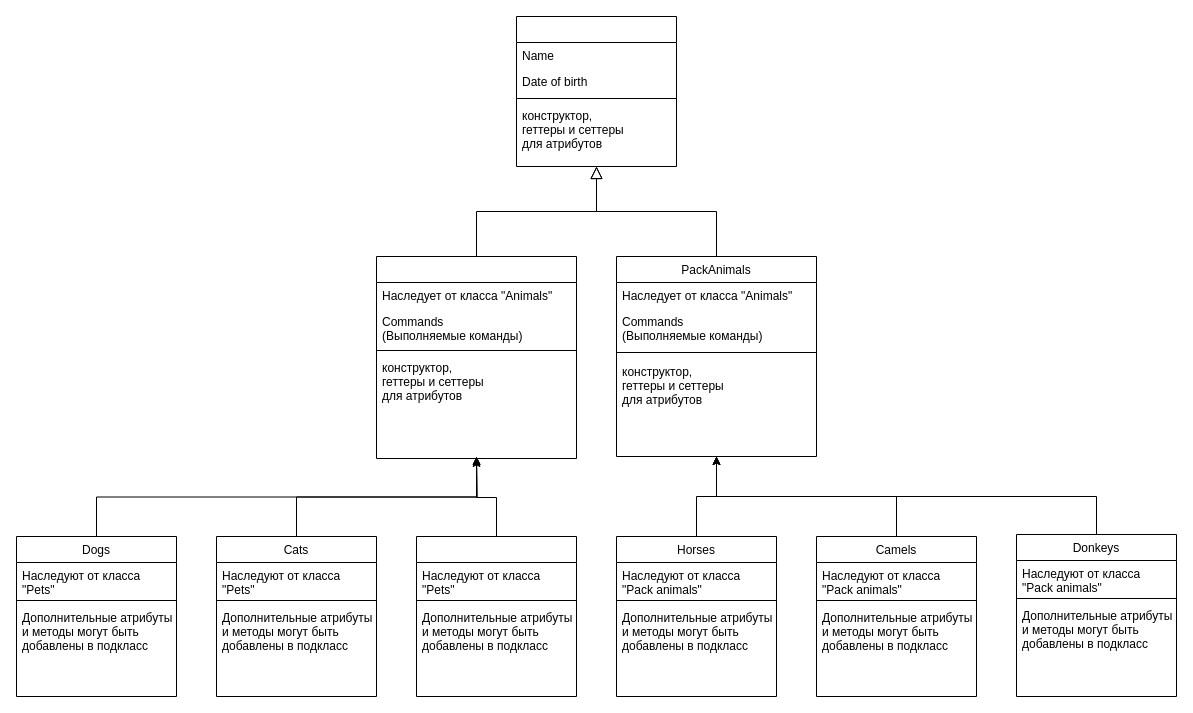
The diagram is 1193 pixels wide and 713 high, and some of its shapes have lost their labels. The box of each missing label's shape, as (x1, y1, x2, y2) in pixels:
Animals: (516, 16, 676, 166)
Hamsters: (416, 536, 576, 696)
Pets: (376, 256, 576, 458)
